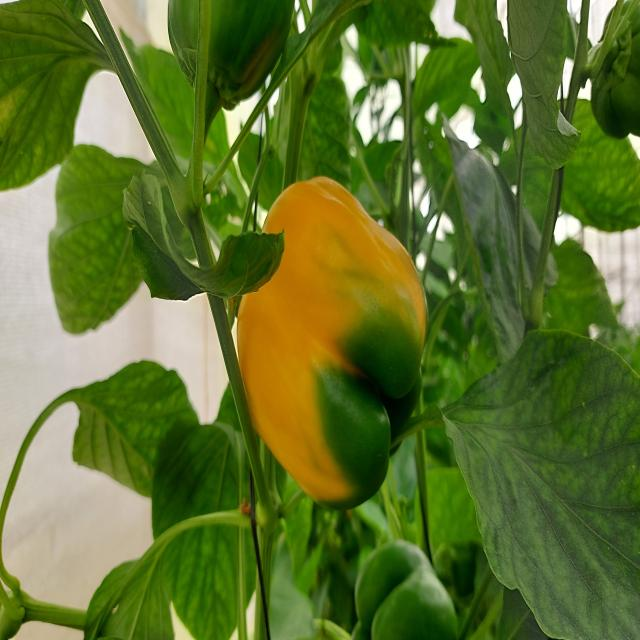Yellow-Ready-to-Harvest: (233, 169, 429, 506)
